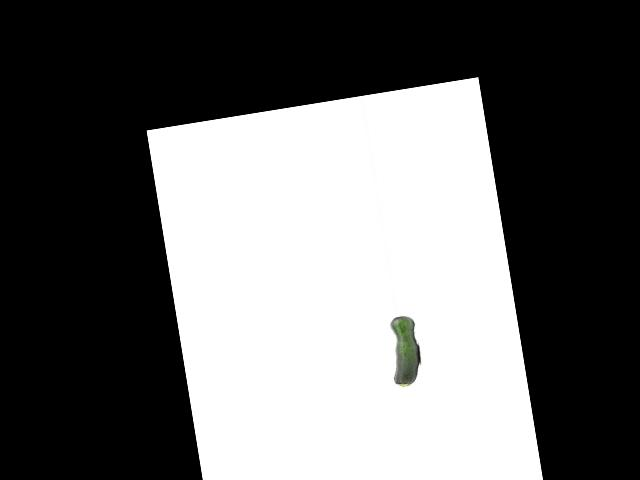cucumber: (384, 314, 424, 388)
